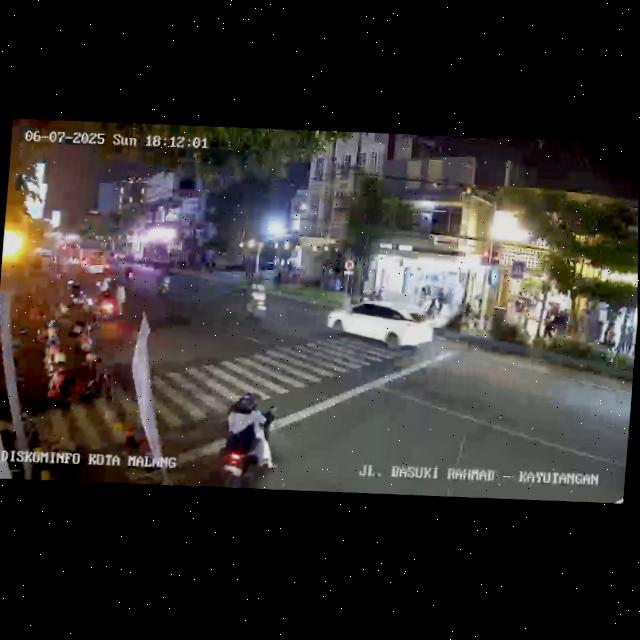car: (326, 295, 435, 358)
motorcycle: (208, 391, 283, 490), (94, 278, 126, 322), (242, 278, 271, 322), (155, 267, 173, 297)
person: (544, 309, 557, 343), (619, 326, 630, 358), (436, 287, 445, 314)
